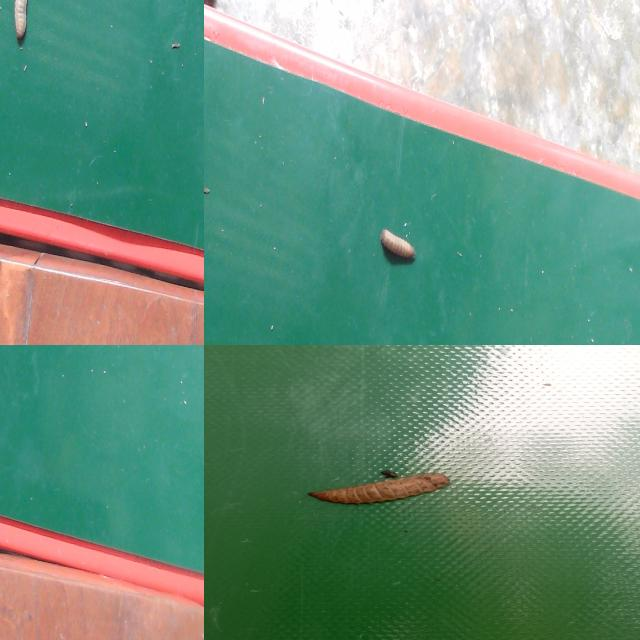Maggot: (310, 473, 450, 508), (380, 230, 417, 266), (11, 0, 30, 48)
